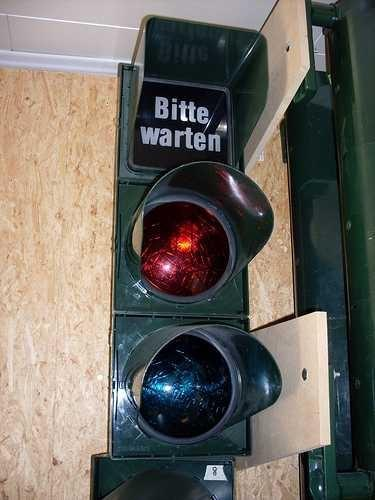red: (114, 176, 275, 456)
